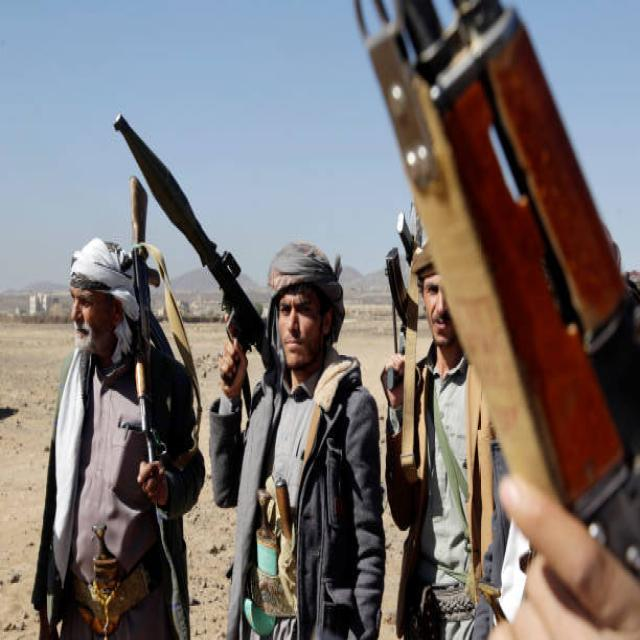terrorist: (114, 117, 385, 638), (31, 178, 204, 638), (381, 215, 494, 638)
